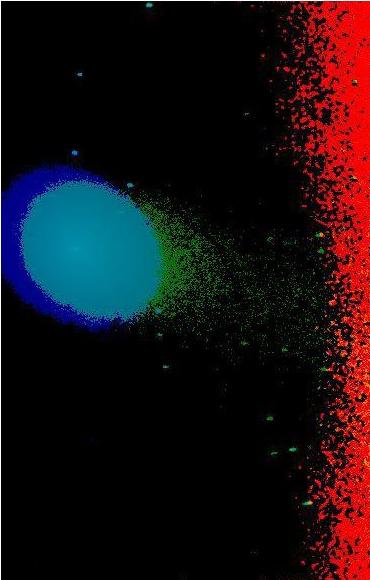star: (311, 163, 341, 193)
